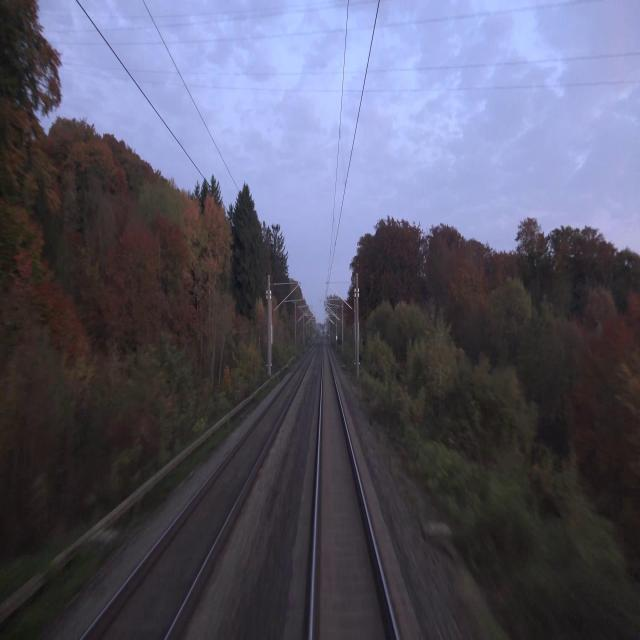rail-track: (85, 351, 312, 639), (313, 344, 395, 639)
